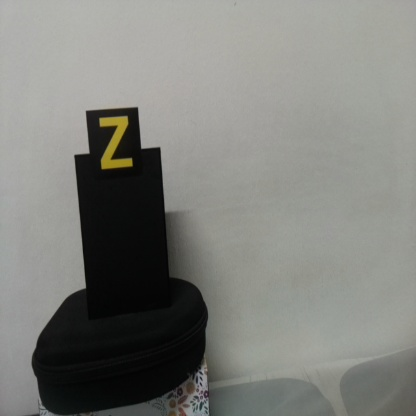id_15: (86, 109, 141, 181)
